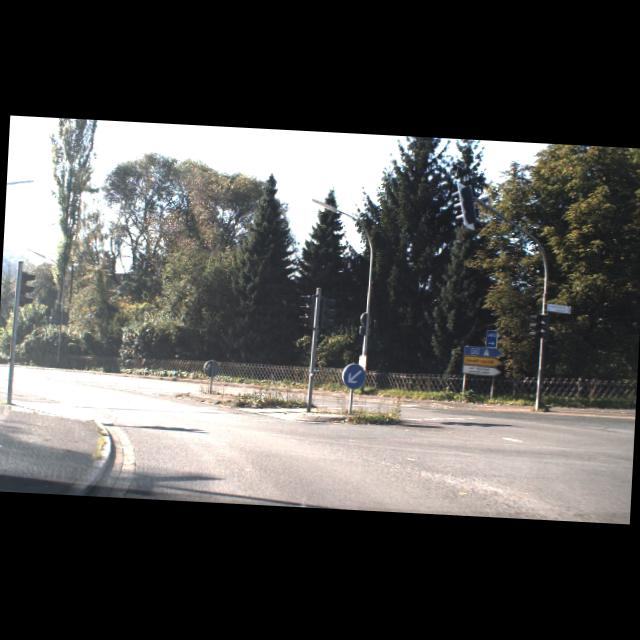mandatory: (342, 364, 366, 391)
